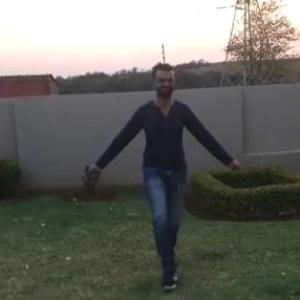land: (88, 59, 242, 274)
